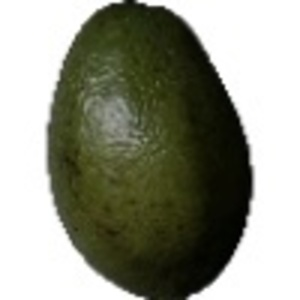abacate: (43, 2, 258, 298)
